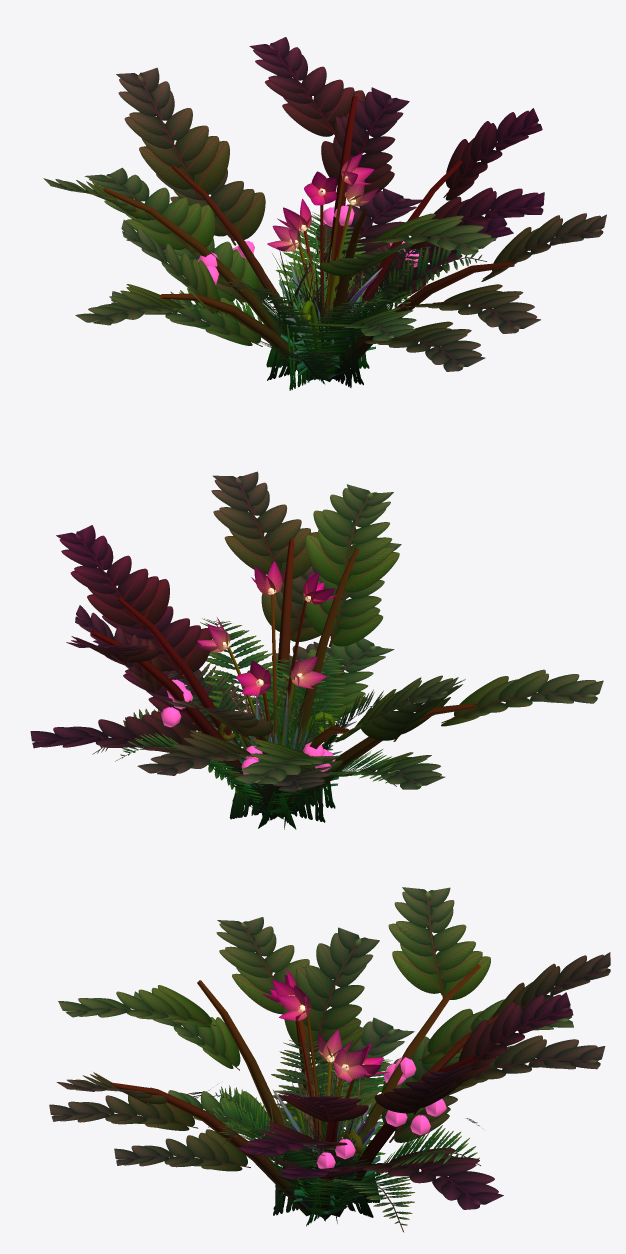
Rendered from flora_ground.glb.
3 views of the same model, one above another, from view 1: azimuth 30°, elevation 25°; view 2: azimuth 150°, elevation 25°; view 3: azimuth 270°, elevation 25° (orthographic). The views are drawn at different scales.
Visible parts, largest first — view 1: shrub_berry_LOD0, fern_curl_LOD0, bloom_lantern_LOD0, grass_clump_LOD0, tuft_clump_LOD0; view 2: shrub_berry_LOD0, fern_curl_LOD0, bloom_lantern_LOD0, grass_clump_LOD0, tuft_clump_LOD0; view 3: shrub_berry_LOD0, fern_curl_LOD0, bloom_lantern_LOD0, grass_clump_LOD0, tuft_clump_LOD0.
Boxes of the visible parts, x1=… form: shrub_berry_LOD0: x1=43, y1=37, x2=606, y2=381; fern_curl_LOD0: x1=170, y1=212, x2=486, y2=378; bloom_lantern_LOD0: x1=267, y1=153, x2=378, y2=379; grass_clump_LOD0: x1=254, y1=214, x2=386, y2=390; tuft_clump_LOD0: x1=275, y1=260, x2=382, y2=375; shrub_berry_LOD0: x1=30, y1=471, x2=603, y2=818; fern_curl_LOD0: x1=92, y1=618, x2=397, y2=810; bloom_lantern_LOD0: x1=197, y1=561, x2=337, y2=814; grass_clump_LOD0: x1=217, y1=675, x2=336, y2=829; tuft_clump_LOD0: x1=213, y1=689, x2=356, y2=789; shrub_berry_LOD0: x1=49, y1=887, x2=610, y2=1219; fern_curl_LOD0: x1=187, y1=1040, x2=480, y2=1232; bloom_lantern_LOD0: x1=262, y1=969, x2=388, y2=1214; grass_clump_LOD0: x1=263, y1=1049, x2=383, y2=1226; tuft_clump_LOD0: x1=272, y1=1076, x2=380, y2=1206.
Size of what is drawn, in the model's own units: 2.29 by 1.03 by 2.23.
Materials: 2 (2 with a texture image).
